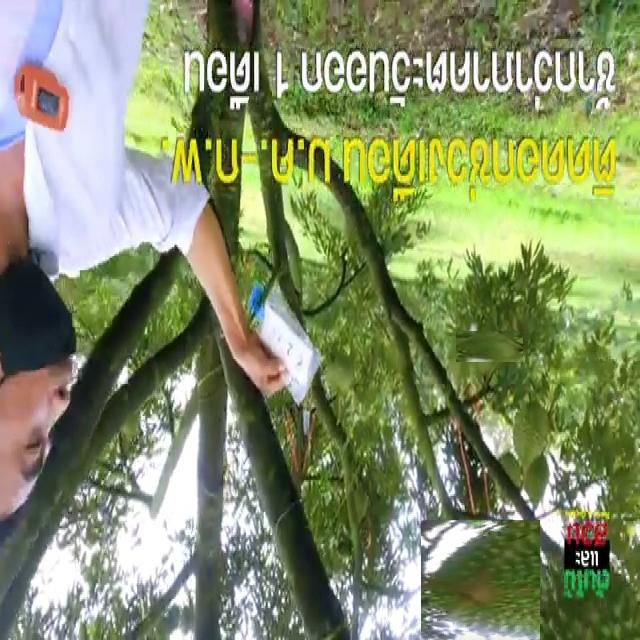durian: (420, 521, 541, 640), (510, 398, 550, 465), (464, 322, 514, 371), (493, 452, 525, 506), (520, 452, 550, 505)
